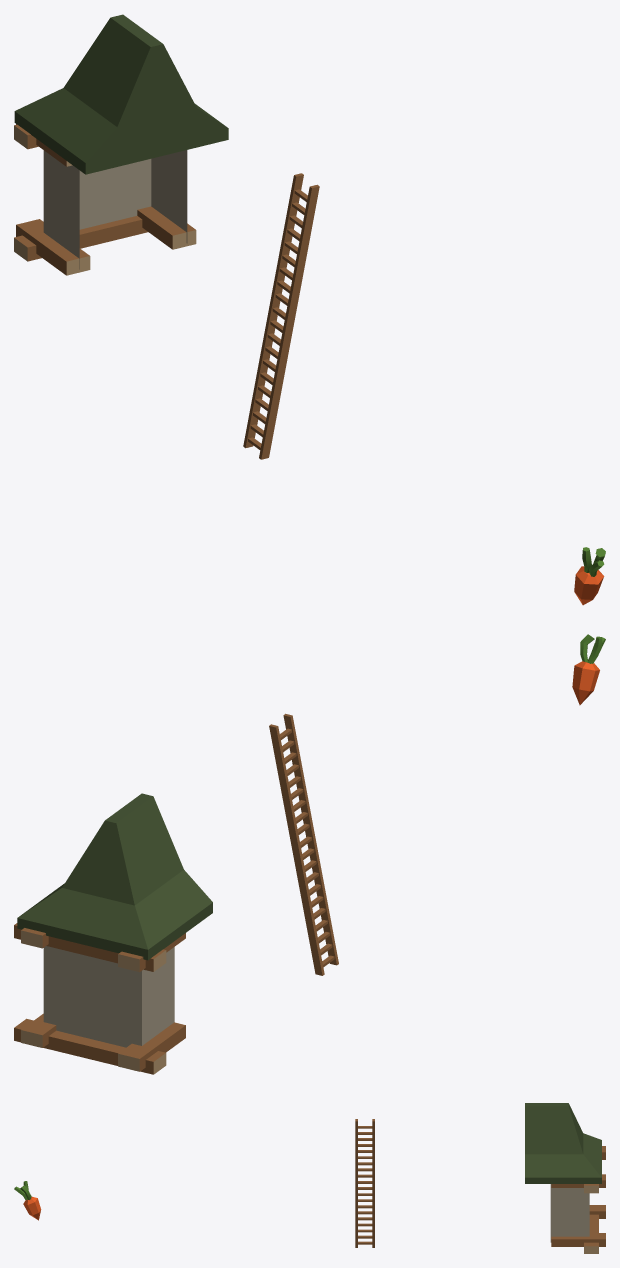
3 renders of one model, top to bottom at view 1: azimuth 30°, elevation 25°; view 2: azimuth 150°, elevation 25°; view 3: azimuth 270°, elevation 25°, orthographic. The views are drawn at different scales.
Parts seen in each view (by area): view 1: Box15695_roof1_0, Box15694_wall3_0, Box15702_brown_0, Box15691_brown_0, Box15692_brown_0; view 2: Box15695_roof1_0, Box15694_wall3_0, Box15702_brown_0, Box15692_brown_0, Box15691_brown_0, Box15697_brown_0, Line1475_red2_0, Box15691_brown2_0, Box15696_brown2_0; view 3: Box15695_roof1_0, Box15694_wall3_0, Box15691_brown_0, Box15702_brown_0, Line1475_red2_0, Box15692_brown_0, Box15696_brown_0.
Boxes of the visible parts, <box> form: Box15695_roof1_0: <box>14,14,228,174</box>; Box15694_wall3_0: <box>43,150,187,269</box>; Box15702_brown_0: <box>243,173,319,459</box>; Box15691_brown_0: <box>16,206,195,275</box>; Box15692_brown_0: <box>14,216,148,261</box>; Box15695_roof1_0: <box>17,793,212,960</box>; Box15694_wall3_0: <box>43,946,174,1047</box>; Box15702_brown_0: <box>269,713,338,975</box>; Box15692_brown_0: <box>14,1018,165,1074</box>; Box15691_brown_0: <box>21,1013,185,1071</box>; Box15697_brown_0: <box>14,923,165,971</box>; Line1475_red2_0: <box>572,661,599,705</box>; Box15691_brown2_0: <box>21,1030,139,1071</box>; Box15696_brown2_0: <box>21,930,139,971</box>; Box15695_roof1_0: <box>525,1103,601,1183</box>; Box15694_wall3_0: <box>550,1184,589,1242</box>; Box15691_brown_0: <box>551,1205,605,1246</box>; Box15702_brown_0: <box>355,1119,374,1247</box>; Line1475_red2_0: <box>23,1196,41,1220</box>; Box15692_brown_0: <box>584,1214,598,1246</box>; Box15696_brown_0: <box>551,1146,605,1187</box>.
Bounding box in the file's own units: 309 × 554 × 1917.
